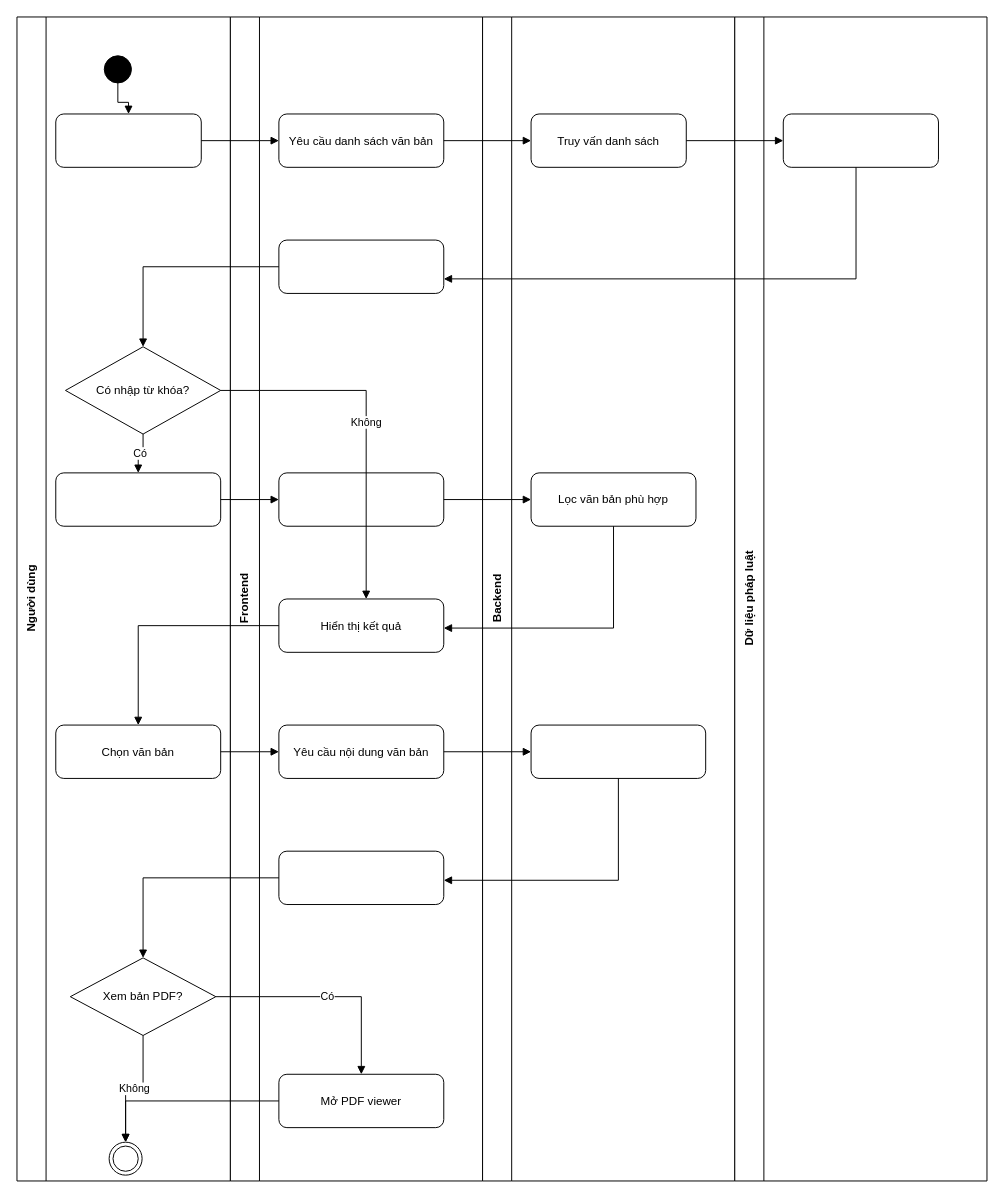
Some shapes in this 1004 by 1198 pixel diagram are drawn without their labels. Here are the shapes that lost their labels. From the top down, the centre of each, then its label:
At pixel 128 140: "Mở trang nguồn pháp luật".
At pixel 860 140: "Đọc metadata văn bản".
At pixel 361 266: "Hiển thị danh sách".
At pixel 138 499: "Nhập từ khóa".
At pixel 361 499: "Gửi yêu cầu tìm kiếm".
At pixel 618 751: "Truy xuất nội dung và metadata".
At pixel 361 877: "Hiển thị nội dung".
